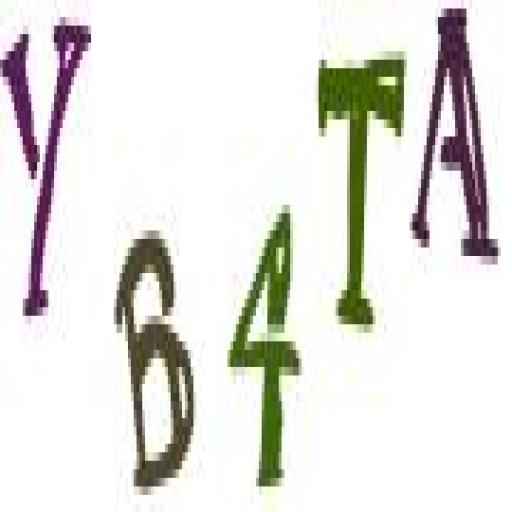4: (223, 183, 306, 494)
A: (406, 0, 503, 284)
B: (115, 236, 201, 475)
T: (309, 36, 406, 356)
Y: (0, 4, 100, 346)
